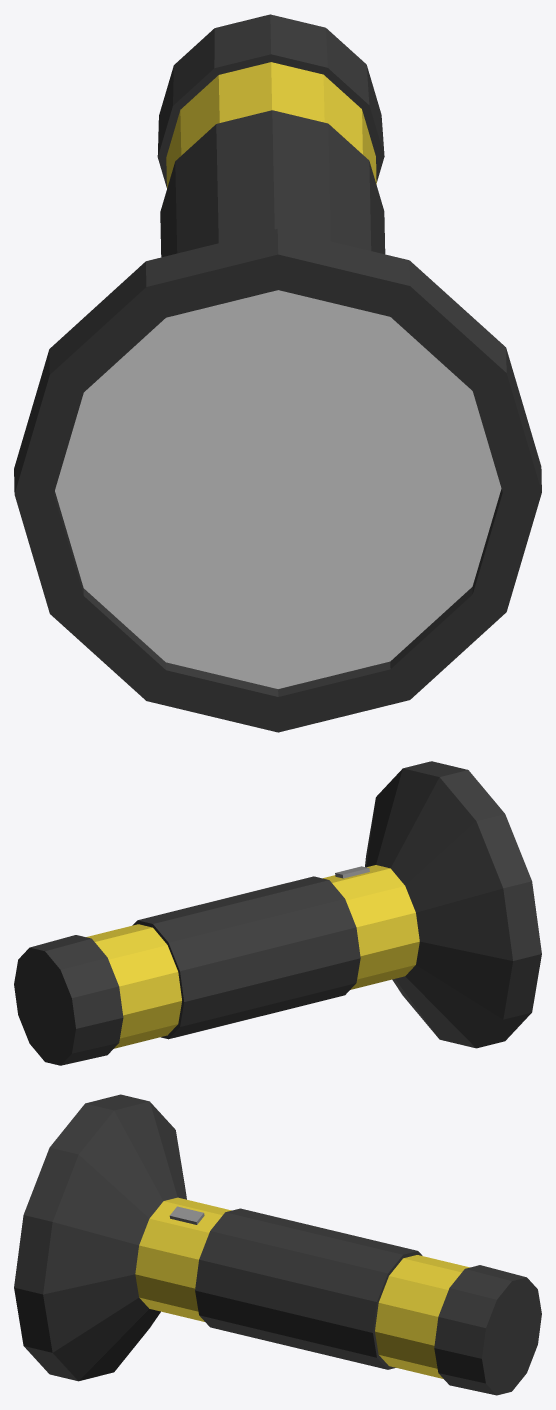
The model's file is Lanterna.glb.
3 views of the same model, one above another, from view 1: azimuth 30°, elevation 25°; view 2: azimuth 150°, elevation 25°; view 3: azimuth 270°, elevation 25° (orthographic). The views are drawn at different scales.
Parts seen in each view (by area): view 1: Handheld Flashlight; view 2: Handheld Flashlight; view 3: Handheld Flashlight.
Part boxes in pixels (x1=…): Handheld Flashlight: x1=14, y1=14, x2=541, y2=732; Handheld Flashlight: x1=14, y1=761, x2=541, y2=1065; Handheld Flashlight: x1=14, y1=1094, x2=541, y2=1395.
Size of the model in its own units: 0.4907 by 0.3375 by 0.6166.
